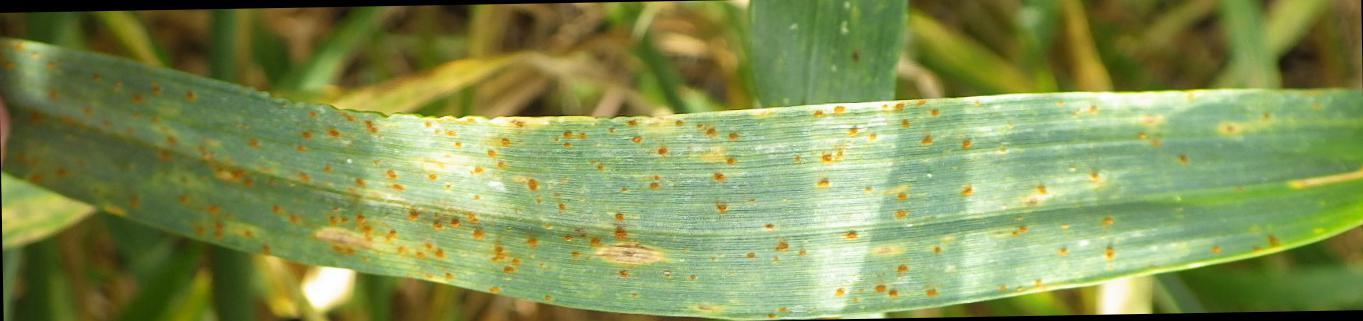Corn: (574, 104, 1076, 317), (125, 73, 565, 286)
